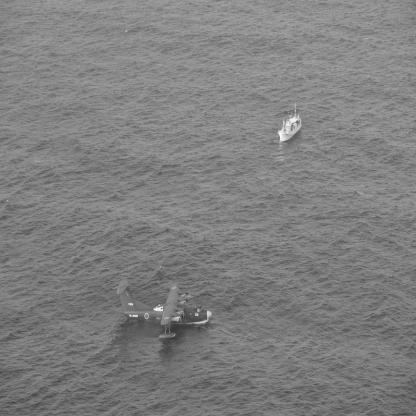US2: (113, 278, 213, 340)
